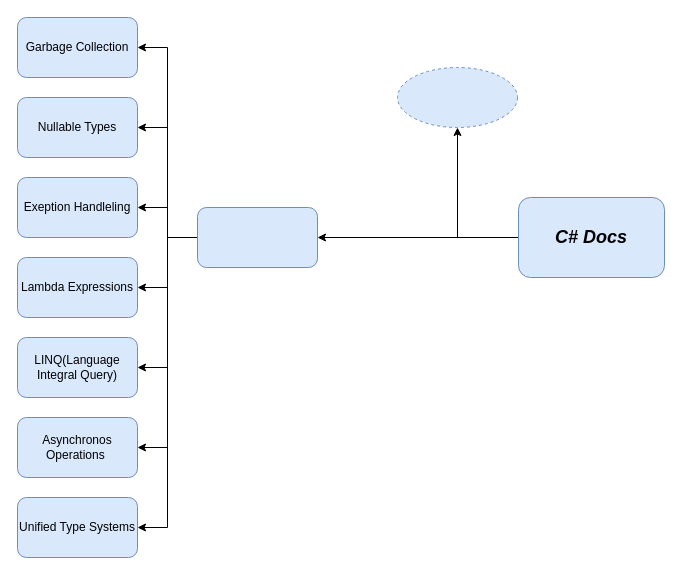
The diagram is 682 pixels wide and 575 high, and some of its shapes have lost their labels. The shapes that lost their labels are listed below. From the top down, each one's box as (x1, y1, x2, y2) in pixels, then its label:
(396, 66, 518, 128): Un lenguaje Orientado a objetos y a Componentes
(196, 206, 318, 268): C# Features
